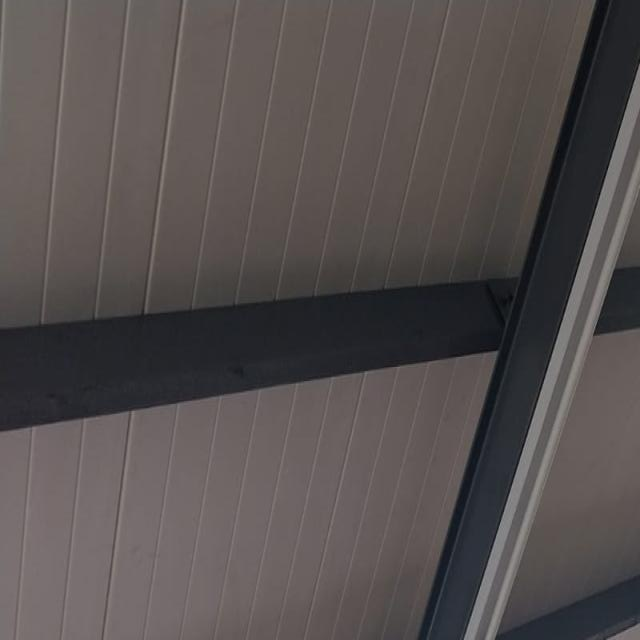fluorescent tube: (436, 0, 640, 640)
